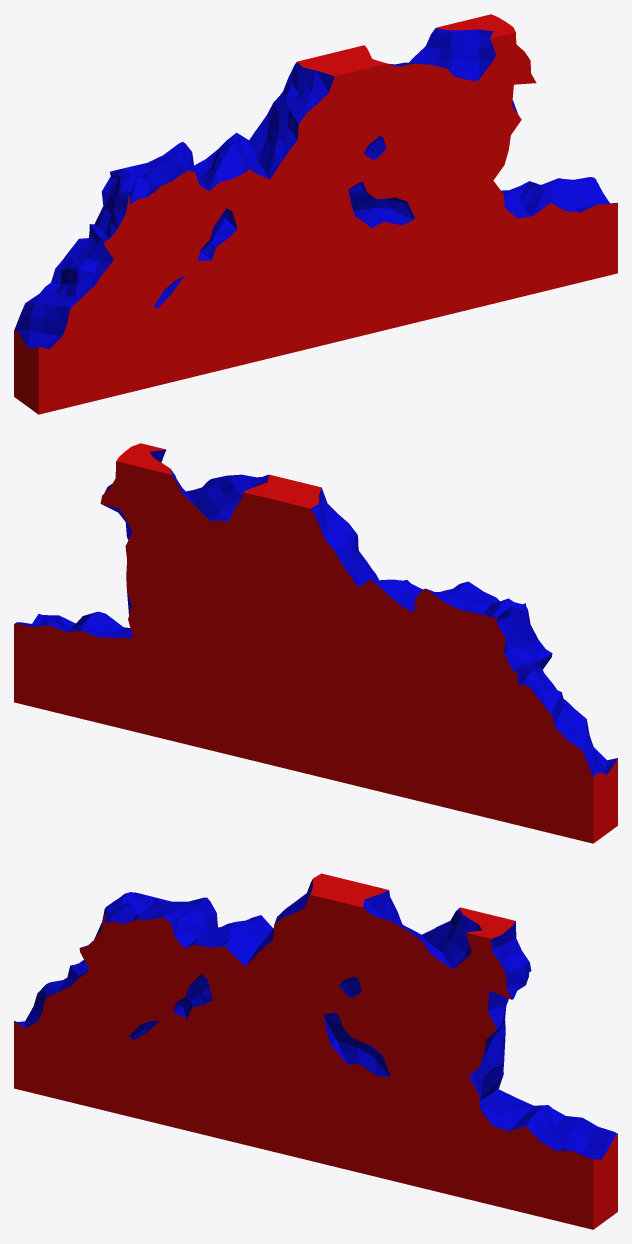
The model's file is broken walls4.fbx.
3 views of the same model, one above another, from view 1: azimuth 30°, elevation 25°; view 2: azimuth 150°, elevation 25°; view 3: azimuth 330°, elevation 25° (orthographic).
Visible parts, largest first — view 1: wall.004; view 2: wall.004; view 3: wall.004.
Part boxes in pixels (bbox=[...]): wall.004: bbox=[14, 14, 617, 414]; wall.004: bbox=[14, 443, 617, 843]; wall.004: bbox=[14, 873, 617, 1229].
Bounding box in the file's own units: 12.43 × 5.45 × 0.914.
